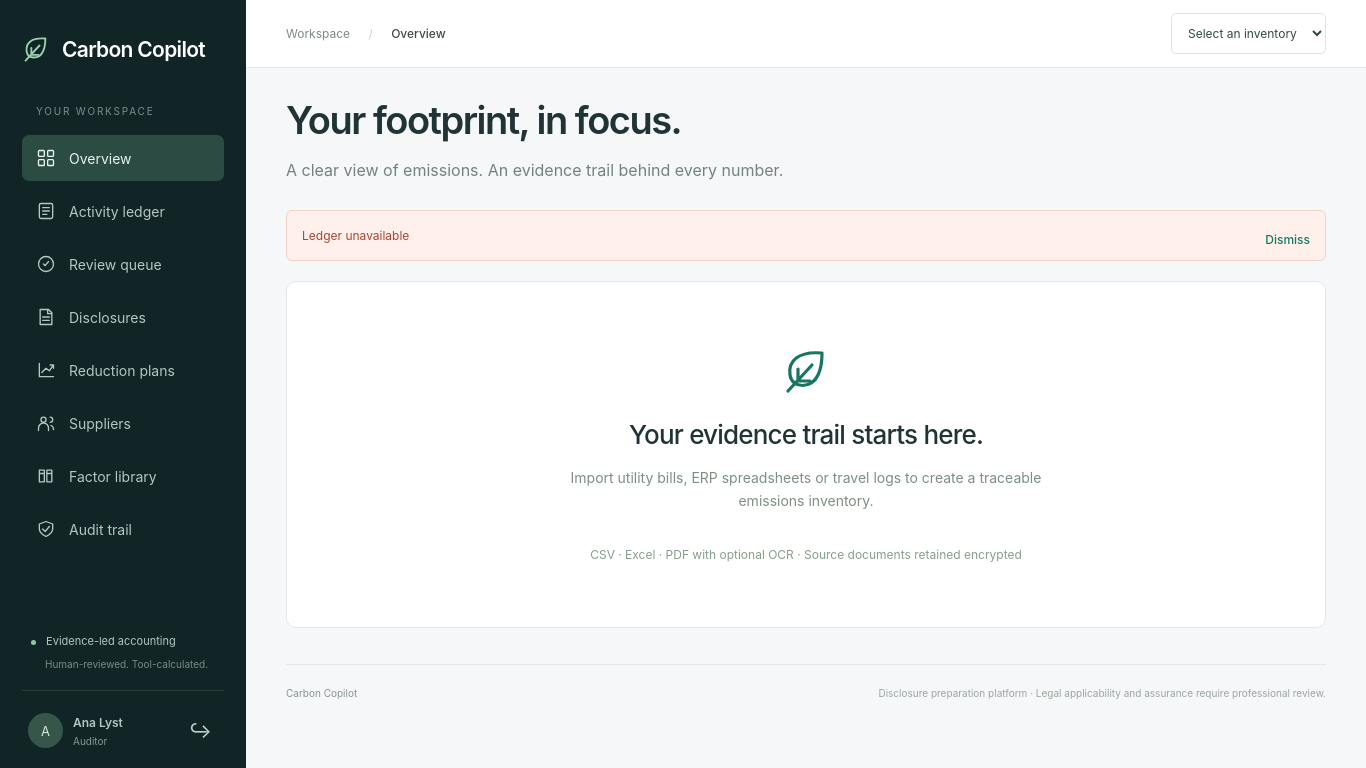
Test case: App › hides import actions from auditors and surfaces load errors
This screenshot has width=1366, height=768.
Expected: the message shows "Ledger unavailable", [302,228,409,243]
Step 1. Click the button "Dismiss" → (1288, 240), box [1265,226,1310,253]
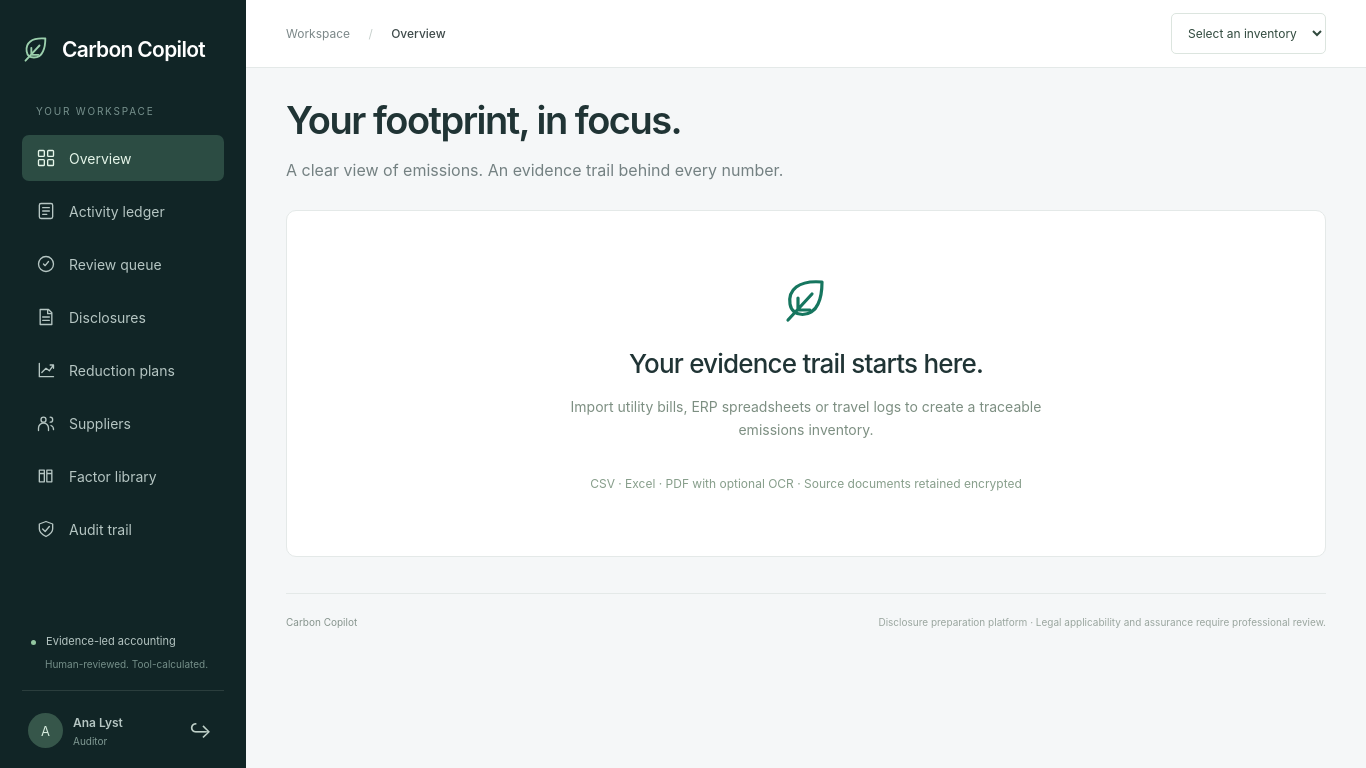
Now the message "Ledger unavailable Dismiss" is gone
